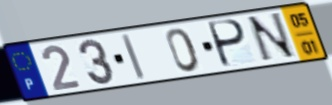0: (165, 27, 201, 74)
2: (41, 44, 84, 93)
3: (78, 38, 117, 86)
I: (119, 32, 148, 81)
N: (244, 10, 300, 65)
P: (207, 18, 249, 70)
